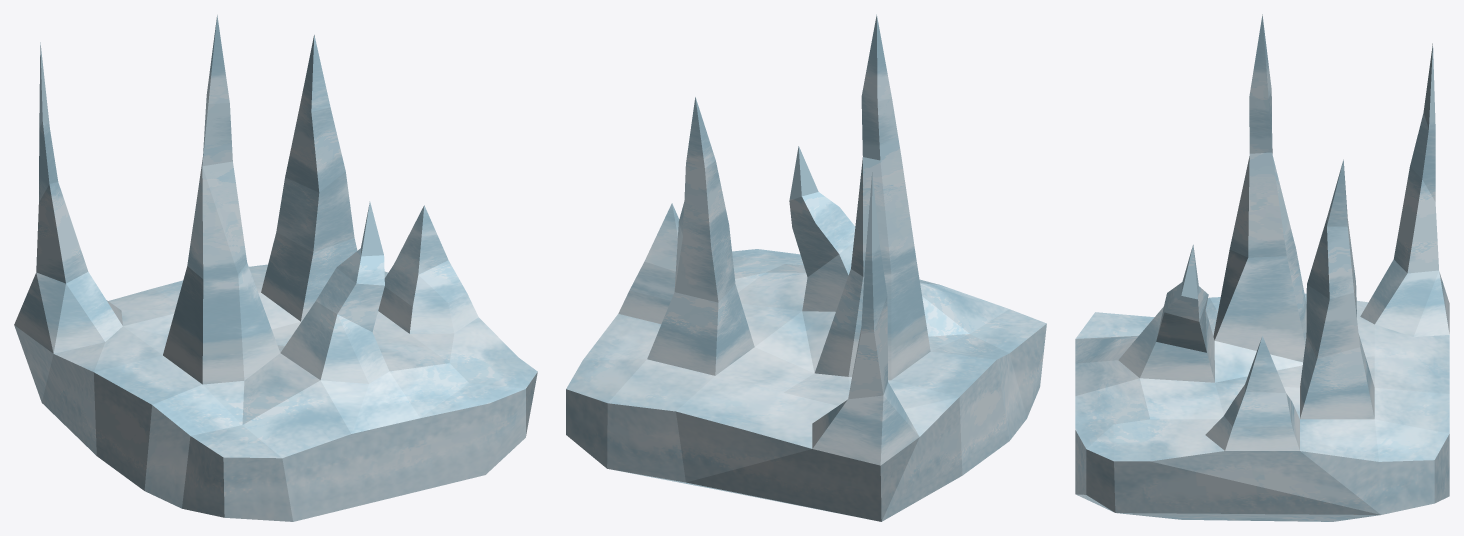
File: ice spikes.fbx
The picture shows the model from 3 angles, left to right: view 1: azimuth 30°, elevation 25°; view 2: azimuth 150°, elevation 25°; view 3: azimuth 270°, elevation 25°; orthographic projection. The views are drawn at different scales.
Visible parts, largest first — view 1: Cube; view 2: Cube; view 3: Cube.
Part boxes in pixels (<box>): Cube: <box>14,15,537,521</box>; Cube: <box>566,14,1046,521</box>; Cube: <box>1075,14,1449,521</box>.
Size of the model in its own units: 200 by 258 by 200.
